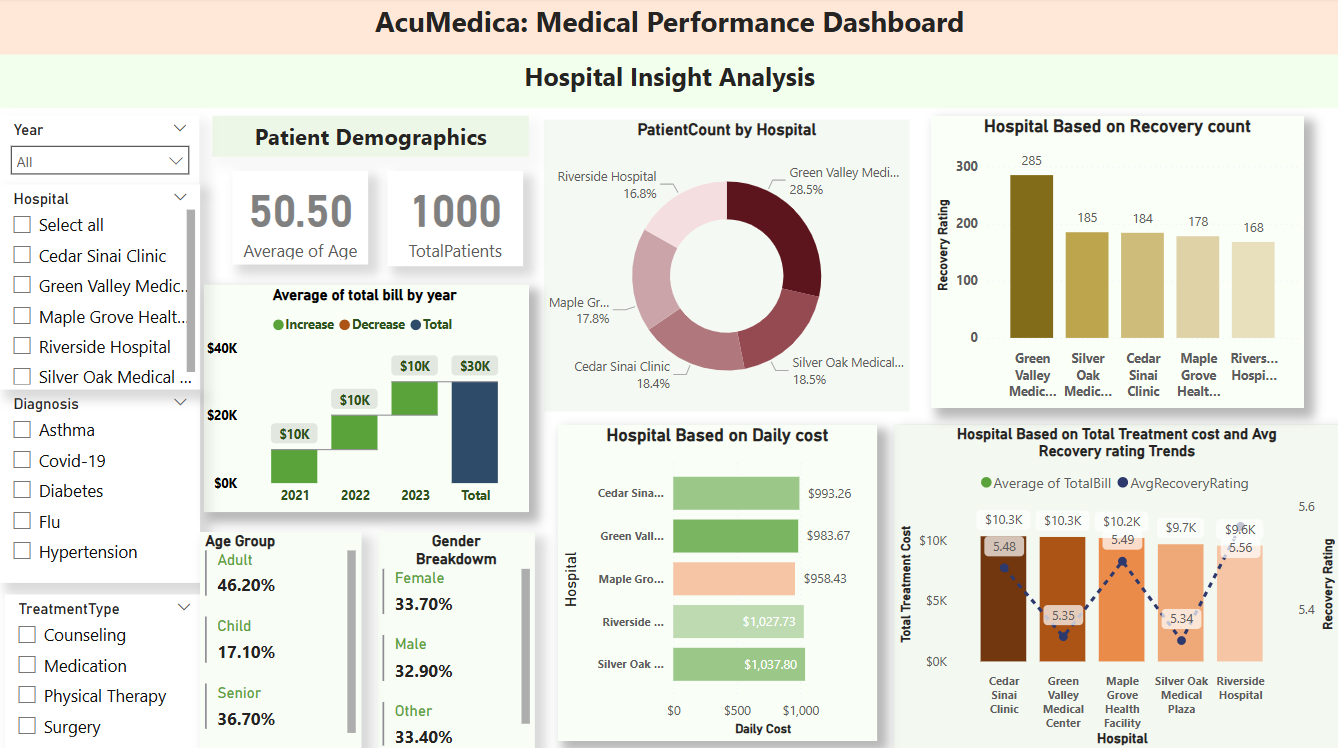

This screenshot's page, from the dashboard's own definition file:
{"tool":"powerbi","page":{"name":"Hospital Insight Analysis","canvas":[1280,720],"ordinal":0},"visuals":[{"type":"textbox","box":[0,0,1279.7,68.1],"z":0},{"type":"textbox","box":[0,54.6,1279.7,51],"z":1000},{"type":"textbox","box":[203.3,113.7,302.7,39.4],"z":2000},{"type":"slicer","fields":{"Values":["Sheet1.AdmissionDate.Variation.Date Hierarchy.Year"]},"box":[0,113.7,190.7,66.3],"z":3000},{"type":"card","fields":{"Values":["Avg(Sheet1.Age)"]},"box":[222.2,165.9,129.8,89.5],"z":4000},{"type":"slicer","fields":{"Values":["Sheet1.Diagnosis"]},"box":[0,375.1,191.1,185.1],"z":5000},{"type":"slicer","fields":{"Values":["Sheet1.TreatmentType"]},"box":[4.8,570.9,189.9,149.3],"z":6000},{"type":"slicer","fields":{"Values":["Sheet1.Hospital"]},"box":[0,179.2,191.1,195.9],"z":7000},{"type":"card","fields":{"Values":["Sheet1.TotalPatients"]},"box":[370.8,165.9,129.8,90.9],"z":8000},{"type":"multiRowCard","title":"Gender Breakdowm","fields":{"Values":["Sheet1.Gender","CountNonNull(Sheet1.Gender)"]},"box":[360.7,511.2,150.5,209],"z":9000},{"type":"multiRowCard","title":"Age Group","fields":{"Values":["Sheet1.Age Group","CountNonNull(Sheet1.Age Group)"]},"box":[191.1,511.2,154.1,209],"z":10000},{"type":"waterfallChart","title":"Average of total bill by year","fields":{"Category":["Sheet1.AdmissionDate.Variation.Date Hierarchy.Year"],"Y":["Avg(Sheet1.TotalBill)"]},"box":[194.7,274.7,310.6,217.4],"z":11000},{"type":"lineClusteredColumnComboChart","title":"Hospital Based on Total Treatment cost and Avg Recovery rating Trends","fields":{"Category":["Sheet1.Hospital"],"Y2":["Sheet1.AvgRecoveryRating"],"Y":["Avg(Sheet1.TotalBill)"]},"box":[854,408.5,426.4,311.7],"z":12000},{"type":"clusteredColumnChart","title":"Hospital Based on Recovery count","fields":{"Category":["Sheet1.Hospital"],"Y":["CountNonNull(Sheet1.RecoveryRating)"]},"box":[889.9,113.5,355.9,279.5],"z":13000},{"type":"clusteredBarChart","title":"Hospital Based on Daily cost","fields":{"Category":["Sheet1.Hospital"],"Y":["Avg(Sheet1.DailyCost)"]},"box":[532.7,408.5,305.8,302.2],"z":14000},{"type":"donutChart","fields":{"Category":["Sheet1.Hospital"],"Y":["Sheet1.PatientCount"]},"box":[519.6,117.1,350,279.5],"z":15000}]}

Visuals, with their boxes in screenshot pixels (x1, y1, x2, y2), scaled from the page's 1280x720 canvas onto the 1338x748 screenshot:
textbox: {"x1": 0, "y1": 0, "x2": 1337, "y2": 71}
textbox: {"x1": 0, "y1": 57, "x2": 1337, "y2": 110}
textbox: {"x1": 213, "y1": 118, "x2": 529, "y2": 159}
slicer - Sheet1.AdmissionDate.Variation.Date Hierarchy.Year: {"x1": 0, "y1": 118, "x2": 199, "y2": 187}
card - Avg(Sheet1.Age): {"x1": 232, "y1": 172, "x2": 368, "y2": 265}
slicer - Sheet1.Diagnosis: {"x1": 0, "y1": 390, "x2": 200, "y2": 582}
slicer - Sheet1.TreatmentType: {"x1": 5, "y1": 593, "x2": 204, "y2": 747}
slicer - Sheet1.Hospital: {"x1": 0, "y1": 186, "x2": 200, "y2": 390}
card - Sheet1.TotalPatients: {"x1": 388, "y1": 172, "x2": 523, "y2": 267}
"Gender Breakdowm" multiRowCard: {"x1": 377, "y1": 531, "x2": 534, "y2": 747}
"Age Group" multiRowCard: {"x1": 200, "y1": 531, "x2": 361, "y2": 747}
"Average of total bill by year" waterfallChart: {"x1": 204, "y1": 285, "x2": 528, "y2": 511}
"Hospital Based on Total Treatment cost and Avg Recovery rating Trends" lineClusteredColumnComboChart: {"x1": 893, "y1": 424, "x2": 1337, "y2": 747}
"Hospital Based on Recovery count" clusteredColumnChart: {"x1": 930, "y1": 118, "x2": 1302, "y2": 408}
"Hospital Based on Daily cost" clusteredBarChart: {"x1": 557, "y1": 424, "x2": 876, "y2": 738}
donutChart - Sheet1.Hospital x Sheet1.PatientCount: {"x1": 543, "y1": 122, "x2": 909, "y2": 412}
